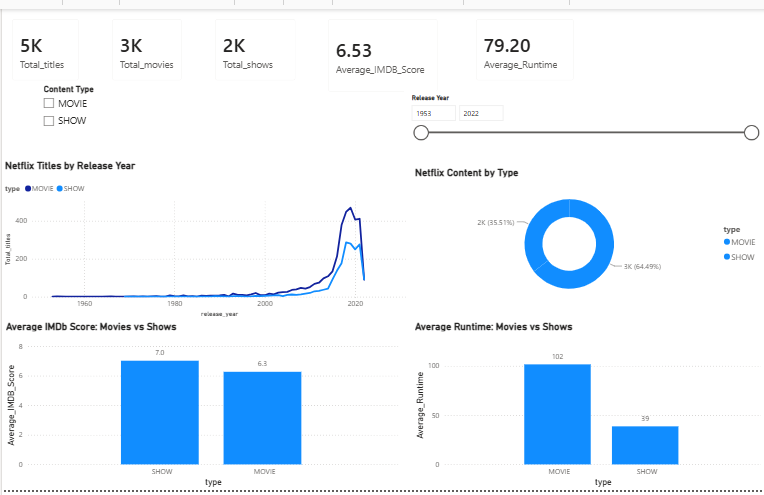

The dashboard page shown, as its layout file describes it:
{"tool":"powerbi","page":{"name":"Netflix Overview","canvas":[1280,808],"ordinal":0},"visuals":[{"type":"cardVisual","fields":{"Data":["Netflix.Total_titles"]},"box":[0,0,146.1,137.7],"z":0},{"type":"cardVisual","fields":{"Data":["Netflix.Total_movies"]},"box":[168,0,151.2,137.7],"z":1000},{"type":"cardVisual","fields":{"Data":["Netflix.Total_shows"]},"box":[341,0,169.7,137.7],"z":2000},{"type":"cardVisual","fields":{"Data":["Netflix.Average_IMDB_Score"]},"box":[530.8,0,218.4,156.2],"z":3000},{"type":"cardVisual","fields":{"Data":["Netflix.Average_Runtime"]},"box":[779.4,0,198.2,137.7],"z":4000},{"type":"slicer","fields":{"Values":["Netflix.type"]},"box":[57.1,120.9,262,131],"z":5000},{"type":"slicer","fields":{"Values":["Netflix.release_year"]},"box":[675.3,137.7,604.7,126],"z":6000},{"type":"lineChart","title":"Netflix Titles by Release Year","fields":{"Category":["Netflix.release_year"],"Y":["Netflix.Total_titles"],"Series":["Netflix.type"]},"box":[0,252,687,270.4],"z":7000},{"type":"donutChart","title":"Netflix Content by Type","fields":{"Y":["Netflix.Total_titles"],"Category":["Netflix.type"]},"box":[688.7,263.7,591.3,231.8],"z":8000},{"type":"clusteredColumnChart","title":"Average IMDb Score: Movies vs Shows","fields":{"Category":["Netflix.type"],"Y":["Netflix.Average_IMDB_Score"]},"box":[1.7,522.4,668.6,285.6],"z":9000},{"type":"clusteredColumnChart","title":"Average Runtime: Movies vs Shows","fields":{"Category":["Netflix.type"],"Y":["Netflix.Average_Runtime"]},"box":[688.7,522.4,591.3,285.6],"z":10000}]}

Visuals, with their boxes in screenshot pixels (x1, y1, x2, y2), scaled from the page's 1280x808 canvas onto the 764x495 screenshot:
cardVisual - Netflix.Total_titles: detection(0, 0, 87, 84)
cardVisual - Netflix.Total_movies: detection(100, 0, 191, 84)
cardVisual - Netflix.Total_shows: detection(204, 0, 305, 84)
cardVisual - Netflix.Average_IMDB_Score: detection(317, 0, 447, 96)
cardVisual - Netflix.Average_Runtime: detection(465, 0, 584, 84)
slicer - Netflix.type: detection(34, 74, 190, 154)
slicer - Netflix.release_year: detection(403, 84, 763, 162)
"Netflix Titles by Release Year" lineChart: detection(0, 154, 410, 320)
"Netflix Content by Type" donutChart: detection(411, 162, 763, 304)
"Average IMDb Score: Movies vs Shows" clusteredColumnChart: detection(1, 320, 400, 494)
"Average Runtime: Movies vs Shows" clusteredColumnChart: detection(411, 320, 763, 494)
